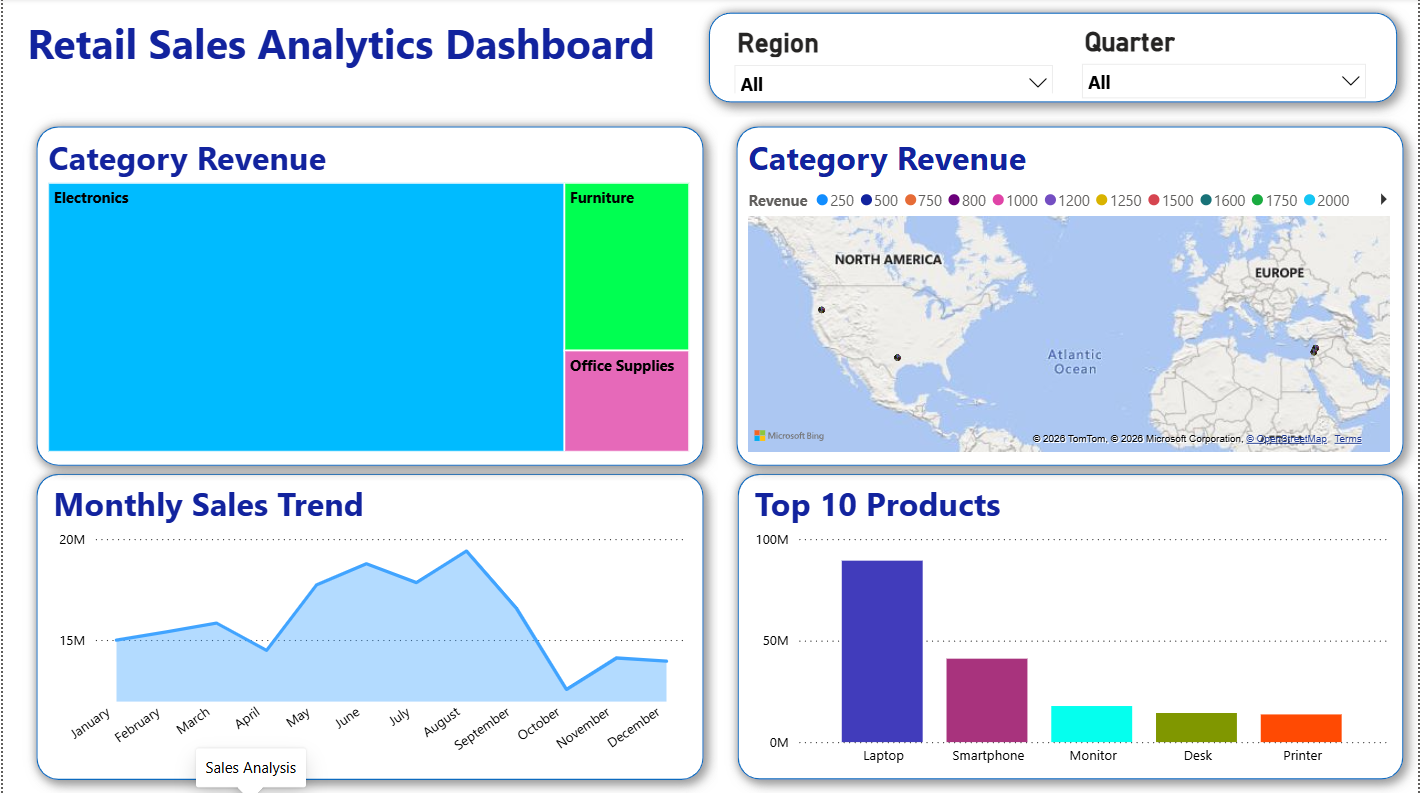

The dashboard page shown, as its layout file describes it:
{"tool":"powerbi","page":{"name":"Sales Analysis","canvas":[1280,720],"ordinal":1},"visuals":[{"type":"group","id":"g1","title":"Group 1","box":[625.7,0,649.1,107.7],"z":0,"group":"g10"},{"type":"shape","box":[625.7,0,649.1,107.7],"z":0,"group":"g1"},{"type":"group","id":"g2","title":"Group 1","box":[16.5,102.9,629.8,333.4],"z":0,"group":"g8"},{"type":"shape","box":[16.5,102.9,629.8,333.4],"z":0,"group":"g2"},{"type":"group","id":"g3","title":"Group 1","box":[650.4,102.9,629.8,333.4],"z":0,"group":"g9"},{"type":"shape","box":[650.4,102.9,629.8,333.4],"z":0,"group":"g3"},{"type":"group","id":"g4","title":"Group 1","box":[651.4,417.1,628.6,302.9],"z":0,"group":"g7"},{"type":"shape","box":[651.4,417.1,628.6,302.9],"z":0,"group":"g4"},{"type":"group","id":"g5","title":"Group 2","box":[16.5,417.2,629.8,303.3],"z":0},{"type":"group","id":"g6","title":"Group 1","box":[16.5,417.2,629.8,303.3],"z":0,"group":"g5"},{"type":"shape","box":[16.5,417.2,629.8,303.3],"z":0,"group":"g6"},{"type":"slicer","fields":{"Values":["Orders_Big.OrderDate.Variation.Date Hierarchy.Quarter"]},"box":[965.9,20.6,277.1,72.3],"z":1000,"group":"g10"},{"type":"treemap","title":"Category Revenue","fields":{"Values":["Sum(Orders_Big.Revenue)"],"Group":["Products_Big.Category"]},"box":[35.3,123.6,589.6,292.3],"z":1000,"group":"g8"},{"type":"map","title":"Category Revenue","fields":{"Category":["Orders_Big.Region"],"Series":["Orders_Big.Revenue"]},"box":[669.2,123.6,589.6,292.3],"z":1000,"group":"g9"},{"type":"group","id":"g7","title":"Group 2","box":[651.4,417.1,628.6,302.9],"z":1000},{"type":"columnChart","title":"Top 10 Products","fields":{"Category":["Products_Big.ProductName"],"Y":["Sum(Orders_Big.Revenue)"]},"box":[675.6,436.2,581.6,266.8],"z":1000,"group":"g7"},{"type":"lineChart","title":"Monthly Sales Trend","fields":{"Y":["Sum(Orders_Big.Revenue)"],"Category":["Orders_Big.OrderDate.Variation.Date Hierarchy.Month"]},"box":[40.7,436.4,582.7,267.2],"z":1000,"group":"g5"},{"type":"group","id":"g8","title":"Group 2","box":[16.5,102.9,629.8,333.4],"z":2000},{"type":"slicer","fields":{"Values":["Orders_Big.Region"]},"box":[651.4,21.2,308.6,64.8],"z":3000,"group":"g10"},{"type":"group","id":"g9","title":"Group 2","box":[650.4,102.9,629.8,333.4],"z":3000},{"type":"group","id":"g10","title":"Group 2","box":[625.7,0,648.6,107.1],"z":4000},{"type":"textbox","box":[17.1,10,602.9,74.3],"z":6000}]}

Visuals, with their boxes in screenshot pixels (x1, y1, x2, y2), scaled from the page's 1280x720 canvas onto the 1420x793 screenshot:
"Group 1" group: (x1=694, y1=0, x2=1414, y2=119)
shape: (x1=694, y1=0, x2=1414, y2=119)
"Group 1" group: (x1=18, y1=113, x2=717, y2=481)
shape: (x1=18, y1=113, x2=717, y2=481)
"Group 1" group: (x1=722, y1=113, x2=1419, y2=481)
shape: (x1=722, y1=113, x2=1419, y2=481)
"Group 1" group: (x1=723, y1=459, x2=1419, y2=792)
shape: (x1=723, y1=459, x2=1419, y2=792)
"Group 2" group: (x1=18, y1=459, x2=717, y2=792)
"Group 1" group: (x1=18, y1=459, x2=717, y2=792)
shape: (x1=18, y1=459, x2=717, y2=792)
slicer - Orders_Big.OrderDate.Variation.Date Hierarchy.Quarter: (x1=1072, y1=23, x2=1379, y2=102)
"Category Revenue" treemap: (x1=39, y1=136, x2=693, y2=458)
"Category Revenue" map: (x1=742, y1=136, x2=1396, y2=458)
"Group 2" group: (x1=723, y1=459, x2=1419, y2=792)
"Top 10 Products" columnChart: (x1=749, y1=480, x2=1395, y2=774)
"Monthly Sales Trend" lineChart: (x1=45, y1=481, x2=692, y2=775)
"Group 2" group: (x1=18, y1=113, x2=717, y2=481)
slicer - Orders_Big.Region: (x1=723, y1=23, x2=1065, y2=95)
"Group 2" group: (x1=722, y1=113, x2=1419, y2=481)
"Group 2" group: (x1=694, y1=0, x2=1414, y2=118)
textbox: (x1=19, y1=11, x2=688, y2=93)
